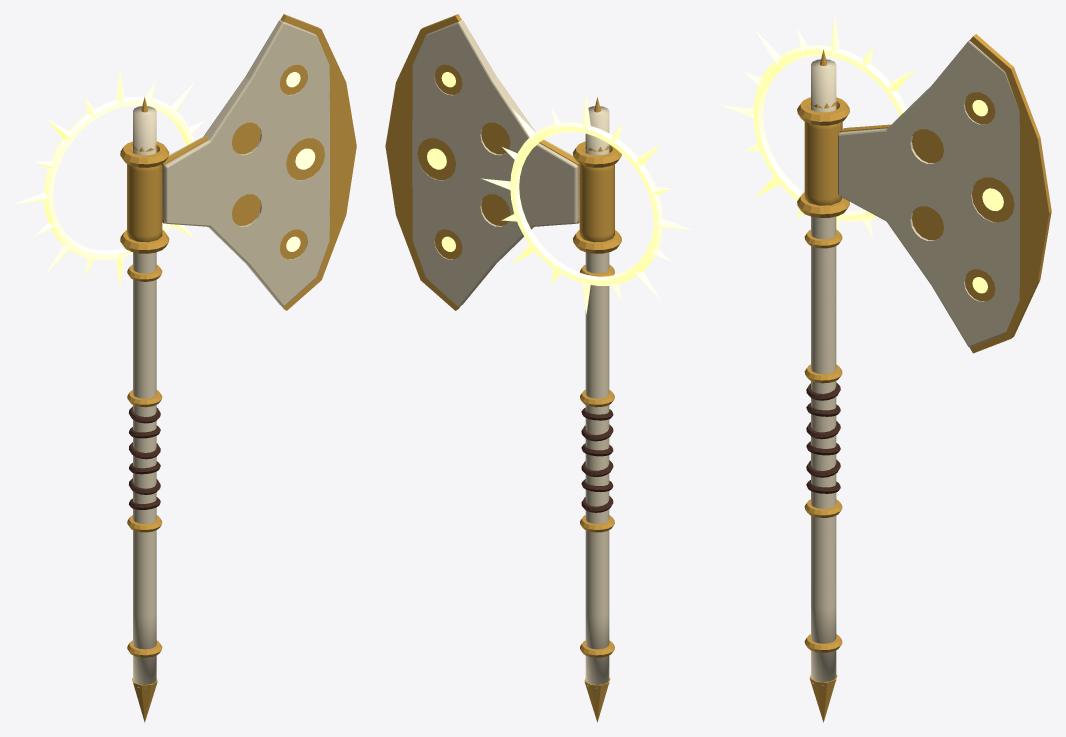
Rendered from sunhalo.glb.
3 renders of one model, left to right at view 1: azimuth 30°, elevation 25°; view 2: azimuth 150°, elevation 25°; view 3: azimuth 330°, elevation 25°, orthographic. The views are drawn at different scales.
Visible parts, largest first — view 1: AX6_Blade, AX6_Haft, AX6_GoldEdge, AX6_Halo, AX6_Socket, AX6_Socket_Top, AX6_Socket_Bot; view 2: AX6_Blade, AX6_Haft, AX6_GoldEdge, AX6_Halo, AX6_Socket, AX6_Socket_Top, AX6_Socket_Bot, AX6_Butt; view 3: AX6_Blade, AX6_Haft, AX6_GoldEdge, AX6_Halo, AX6_Socket, AX6_Socket_Top, AX6_Socket_Bot, AX6_Butt.
Part boxes in pixels (bbox=[...]): AX6_Blade: bbox=[162, 20, 329, 306]; AX6_Haft: bbox=[133, 106, 156, 688]; AX6_GoldEdge: bbox=[162, 14, 356, 310]; AX6_Halo: bbox=[44, 96, 193, 259]; AX6_Socket: bbox=[127, 152, 162, 242]; AX6_Socket_Top: bbox=[120, 141, 169, 167]; AX6_Socket_Bot: bbox=[120, 230, 169, 253]; AX6_Blade: bbox=[412, 20, 579, 306]; AX6_Haft: bbox=[585, 106, 609, 688]; AX6_GoldEdge: bbox=[385, 14, 579, 310]; AX6_Halo: bbox=[510, 122, 662, 285]; AX6_Socket: bbox=[579, 164, 614, 242]; AX6_Socket_Top: bbox=[573, 141, 621, 167]; AX6_Socket_Bot: bbox=[573, 230, 621, 253]; AX6_Butt: bbox=[584, 678, 610, 722]; AX6_Blade: bbox=[838, 40, 1019, 347]; AX6_Haft: bbox=[811, 59, 836, 685]; AX6_GoldEdge: bbox=[840, 34, 1051, 353]; AX6_Halo: bbox=[753, 45, 907, 221]; AX6_Socket: bbox=[804, 109, 842, 205]; AX6_Socket_Top: bbox=[797, 97, 849, 125]; AX6_Socket_Bot: bbox=[797, 192, 849, 217]; AX6_Butt: bbox=[809, 674, 837, 722].
Bounding box in the file's own units: 0.9465 × 1.88 × 0.167.
